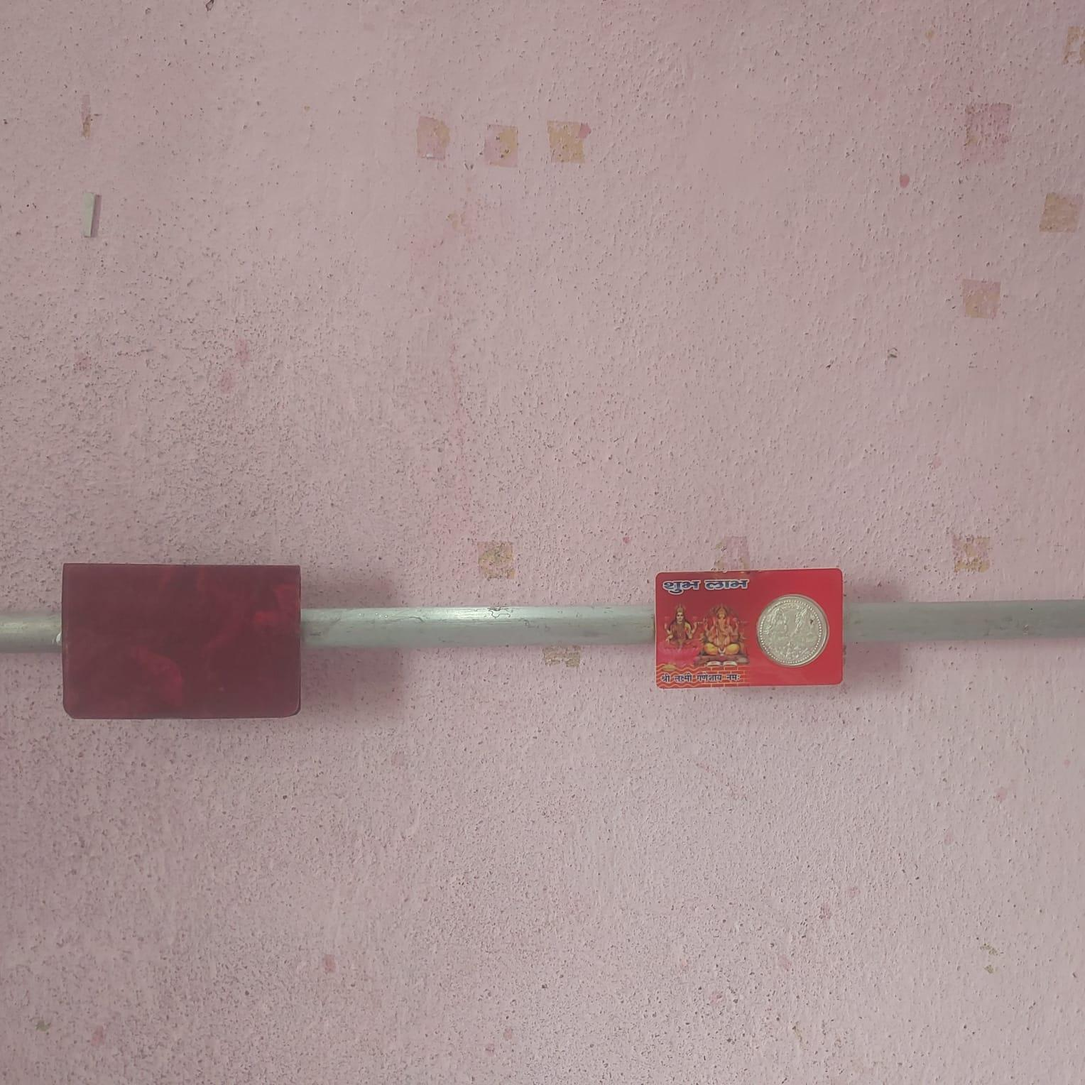blessing_card: (650, 571, 840, 687)
wallet: (63, 556, 312, 715)
